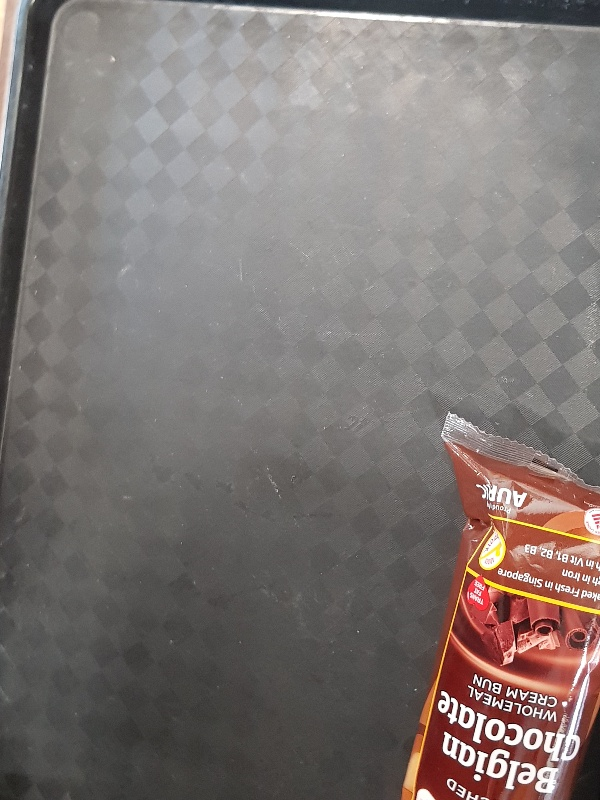Sunshine Belgium Chocolate Wholemeal Cream Bun: (399, 410, 599, 800)
